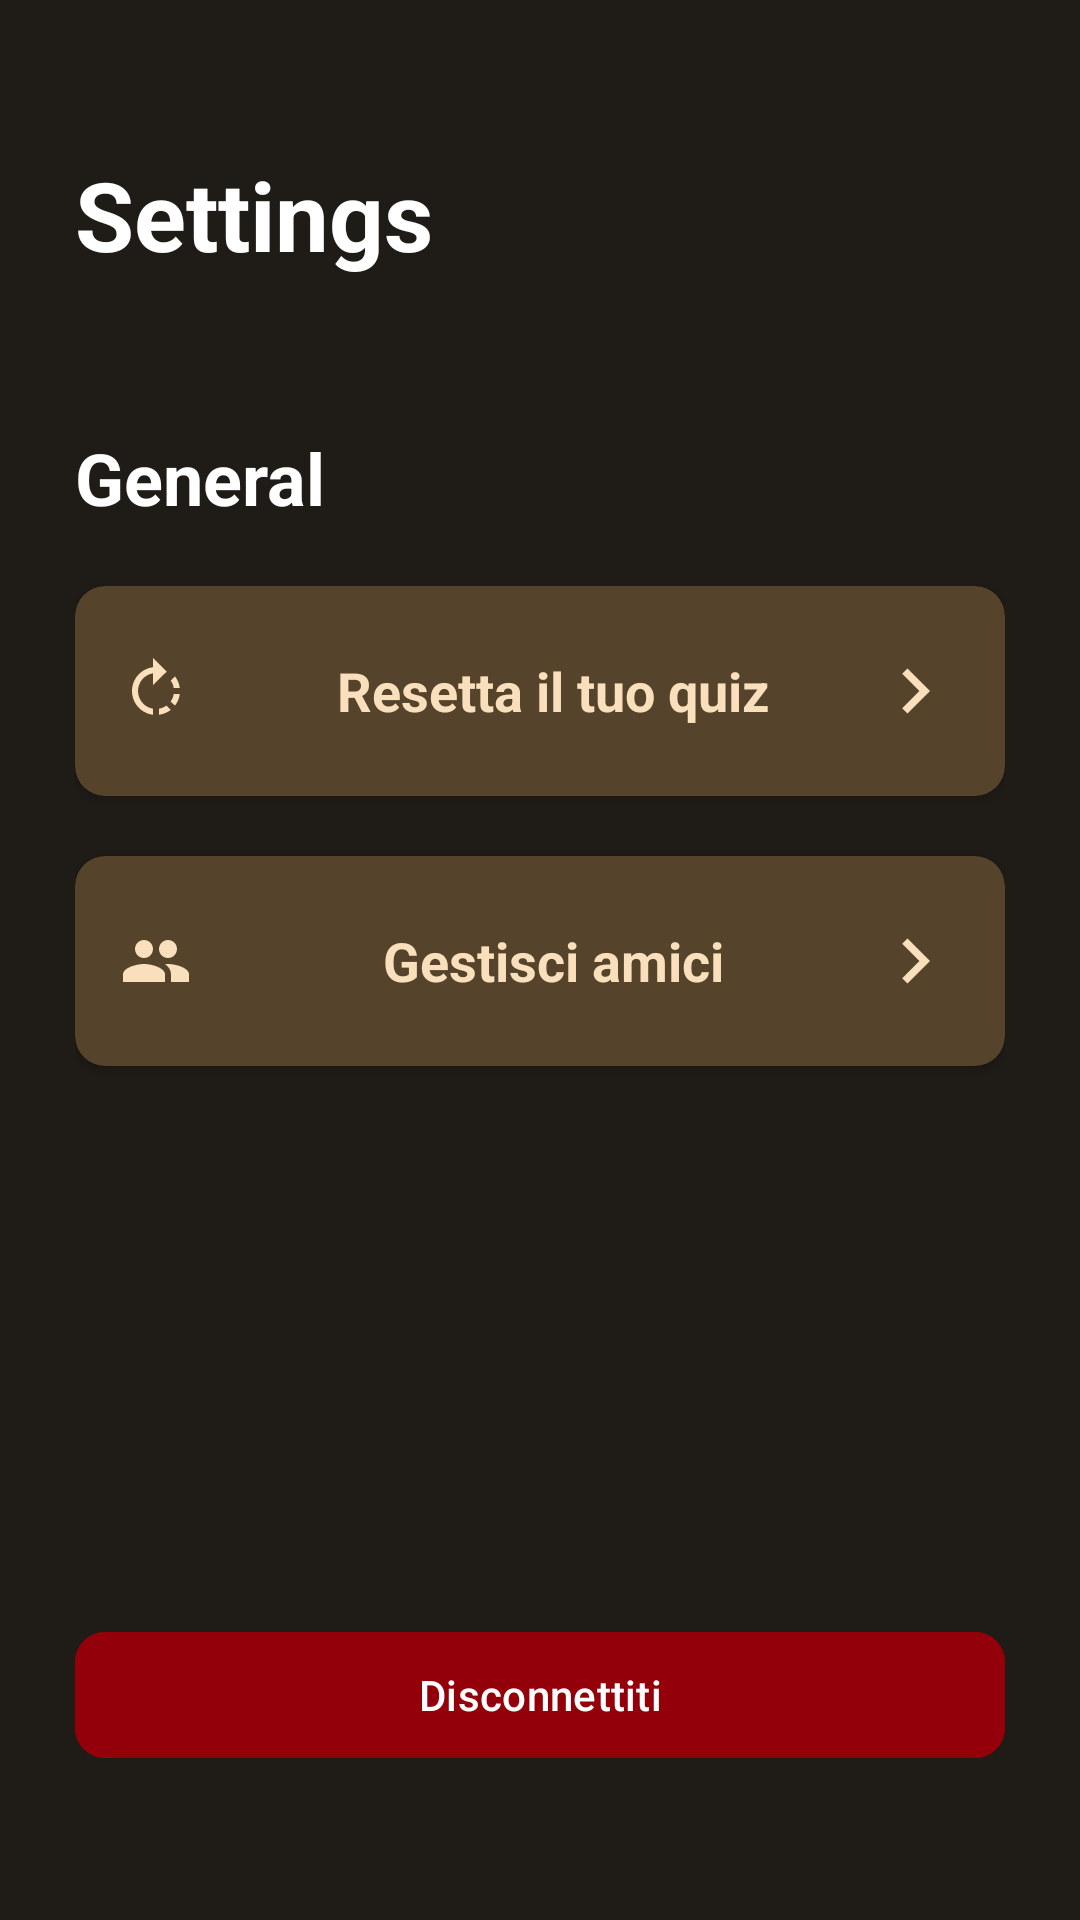

Icons on this 1080*1920 Android screen, each with the point to tap as point (x, y):
keyboard arrow right: point (916, 691), point (916, 961)
rotate right: point (156, 686)
